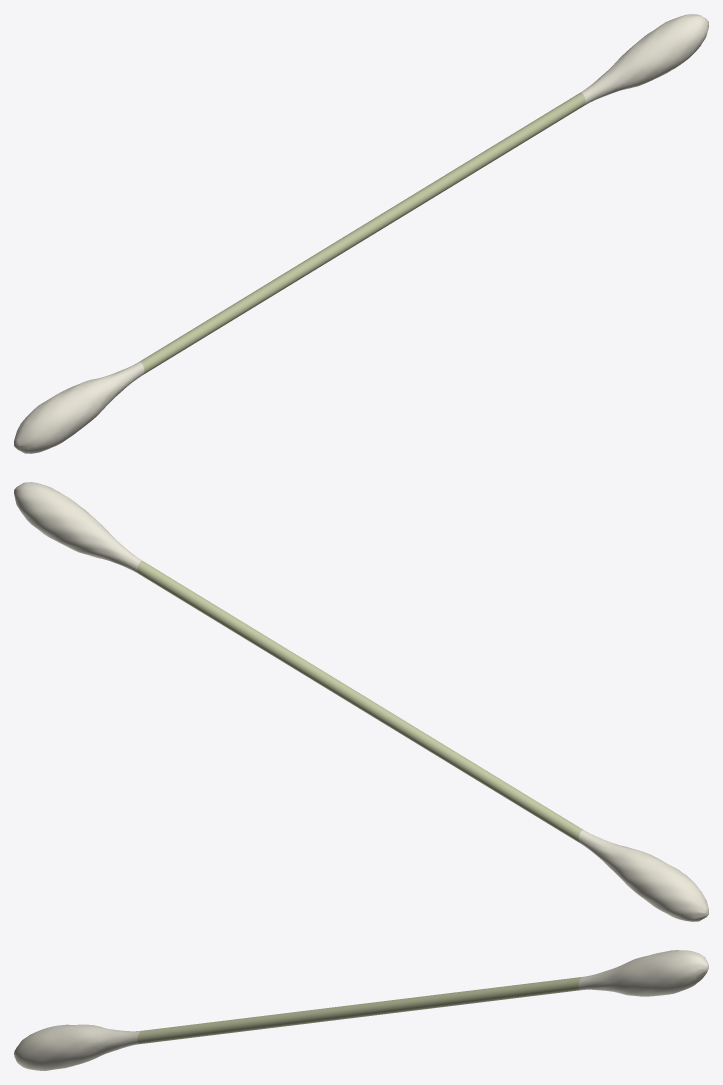
File: A-NEW-20261027-COTTON-SWAB-001_LOD1_R1.glb
3 renders of one model, top to bottom at view 1: azimuth 30°, elevation 25°; view 2: azimuth 150°, elevation 25°; view 3: azimuth 330°, elevation 25°, orthographic.
Parts seen in each view (by area): view 1: continuous original swab stem and two tapered cotton tips; view 2: continuous original swab stem and two tapered cotton tips; view 3: continuous original swab stem and two tapered cotton tips.
Part boxes in pixels (x1,y1,x2,y2): continuous original swab stem and two tapered cotton tips: [14, 14, 708, 453]; continuous original swab stem and two tapered cotton tips: [14, 482, 708, 921]; continuous original swab stem and two tapered cotton tips: [14, 950, 708, 1070].
Size of the model in its own units: 0.0756 by 0.0286 by 0.00435.
